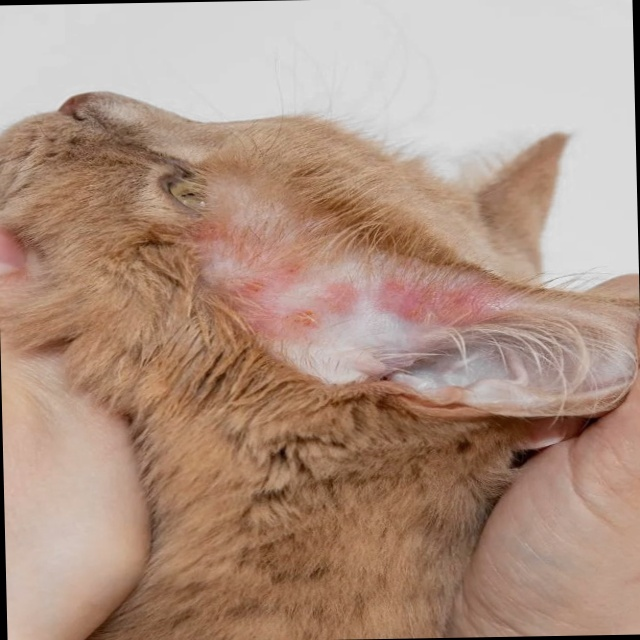ringworm: (200, 211, 459, 335)
